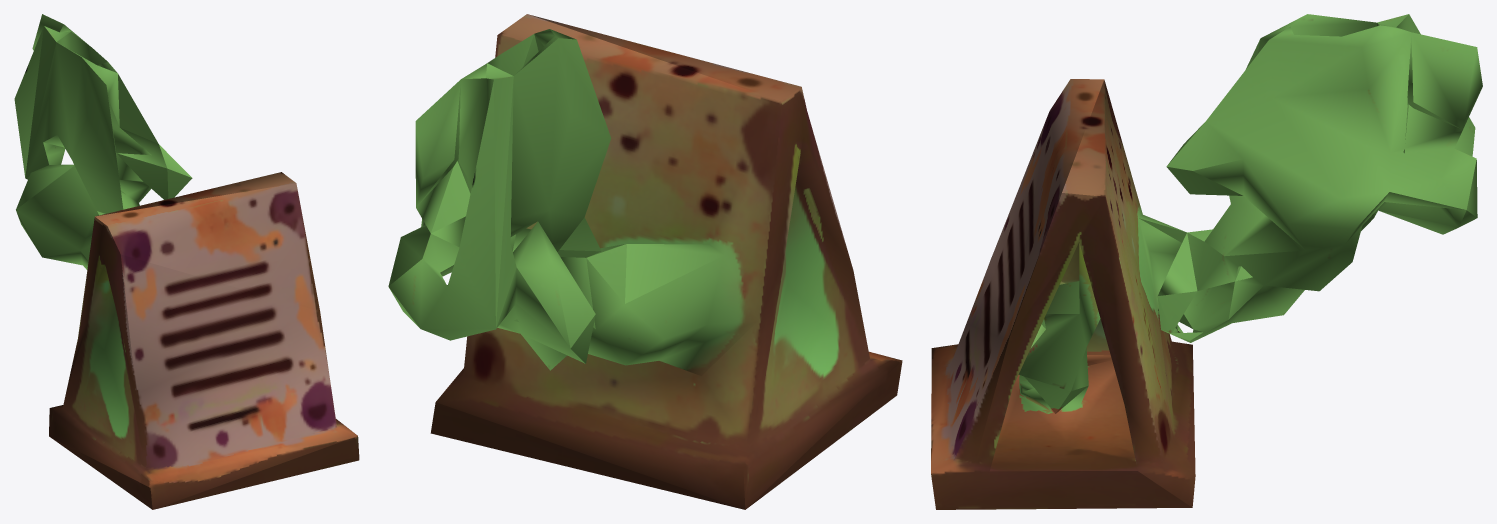
The model's file is poison-vent.glb.
3 renders of one model, left to right at view 1: azimuth 30°, elevation 25°; view 2: azimuth 150°, elevation 25°; view 3: azimuth 270°, elevation 25°, orthographic. The views are drawn at different scales.
Visible parts, largest first — view 1: geometry_0.001; view 2: geometry_0.001; view 3: geometry_0.001.
Boxes of the visible parts, <box> form: geometry_0.001: <box>14,14,359,509</box>; geometry_0.001: <box>388,14,902,509</box>; geometry_0.001: <box>931,14,1482,509</box>.
Size of the model in its own units: 0.5551 by 0.8287 by 0.9952.
1 material, 1 textured.
